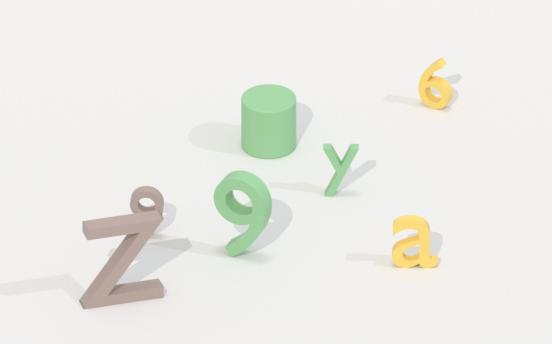6: (414, 57, 457, 113)
7: (74, 214, 169, 307)
9: (210, 171, 276, 261)
Y: (317, 138, 364, 199)
a: (389, 214, 442, 273)
tru: (237, 82, 300, 162)
